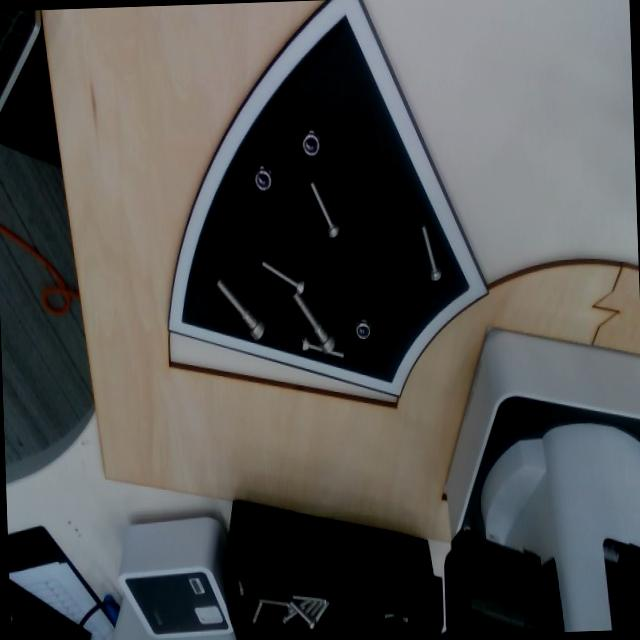big: (283, 291, 341, 358), (209, 277, 269, 341)
board: (151, 0, 497, 404)
circle: (251, 160, 275, 195), (300, 125, 323, 157), (353, 313, 373, 342)
small: (308, 175, 343, 240), (253, 261, 309, 297), (416, 222, 442, 283), (297, 335, 346, 365)
